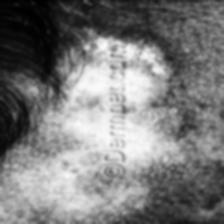Unclassified: (142, 106, 190, 142), (124, 42, 160, 72)
